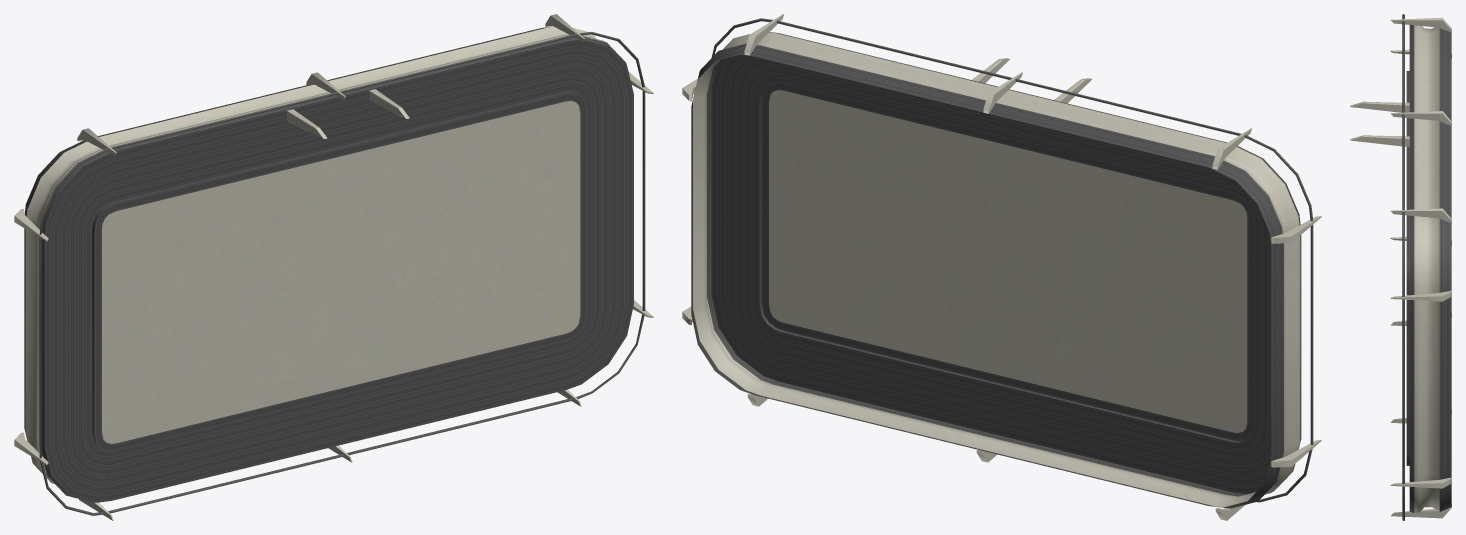
File: nt_2020_car_base_LOD1.obj
3 views of the same model, side by side, from view 1: azimuth 30°, elevation 25°; view 2: azimuth 150°, elevation 25°; view 3: azimuth 270°, elevation 25° (orthographic). The views are drawn at different scales.
Parts seen in each view (by area): view 1: nt_2020_plastic_cream, nt_2020_metal_brushed_trim; view 2: nt_2020_plastic_cream, nt_2020_metal_brushed_trim; view 3: nt_2020_plastic_cream, nt_2020_metal_brushed_trim.
Part boxes in pixels (bbox=[...]): nt_2020_plastic_cream: bbox=[14, 14, 653, 520]; nt_2020_metal_brushed_trim: bbox=[24, 26, 645, 515]; nt_2020_plastic_cream: bbox=[682, 14, 1321, 520]; nt_2020_metal_brushed_trim: bbox=[691, 18, 1313, 508]; nt_2020_plastic_cream: bbox=[1350, 17, 1451, 518]; nt_2020_metal_brushed_trim: bbox=[1402, 14, 1451, 520].
Bounding box in the file's own units: 458 × 266 × 79.39.
